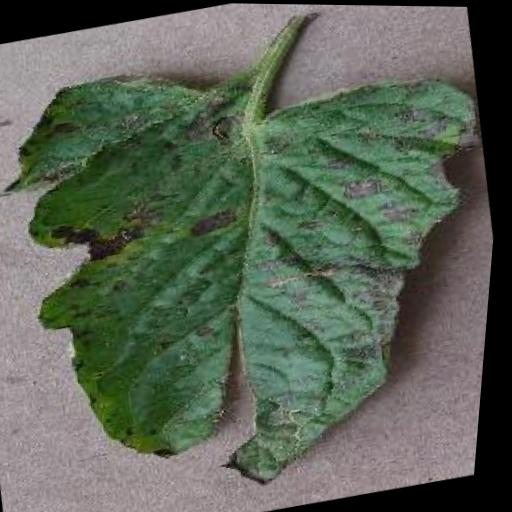Early Blight: (0, 4, 512, 512)
